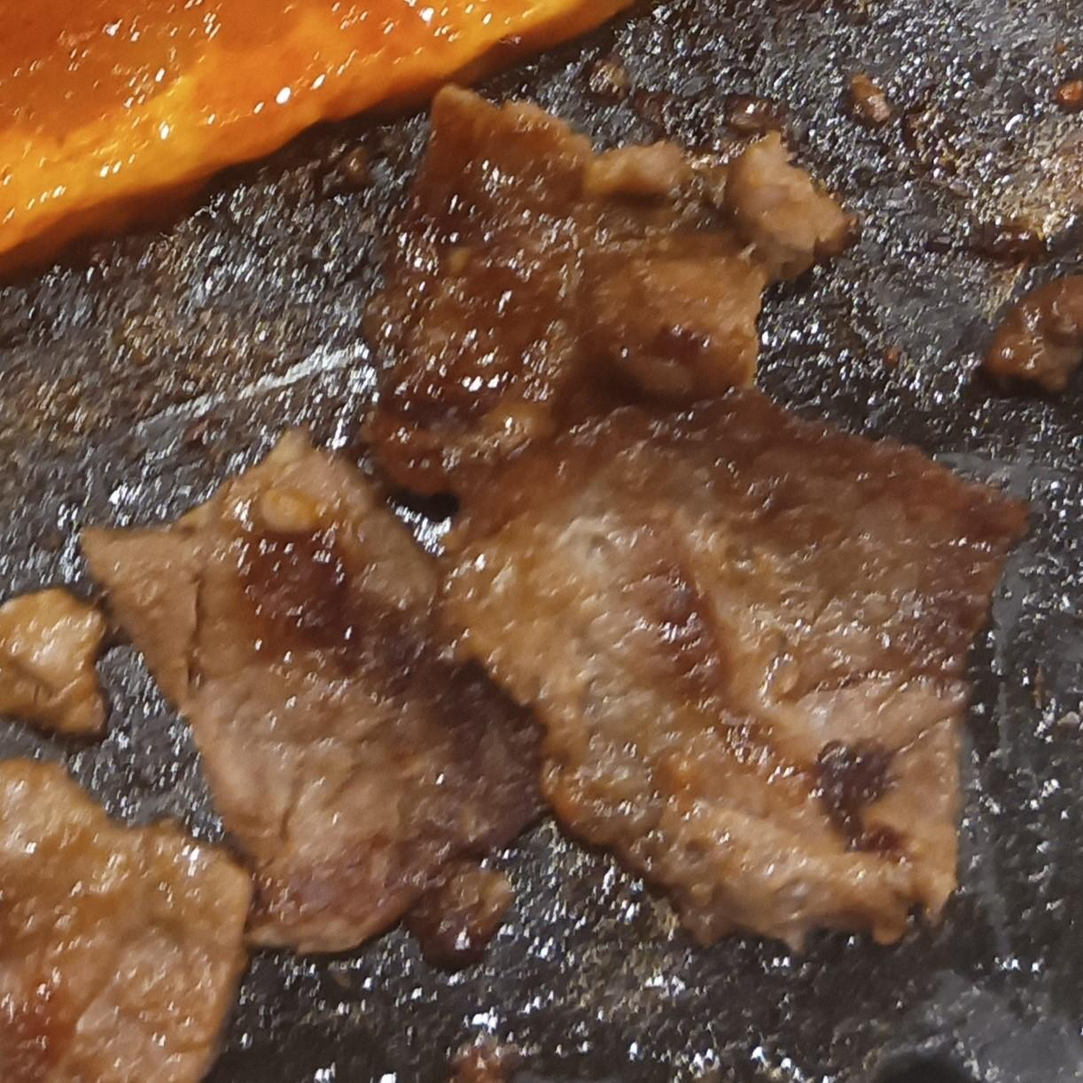Overcooked: (362, 93, 1028, 954), (79, 435, 545, 964), (0, 762, 249, 1082)
Undercooked: (0, 0, 645, 287)
